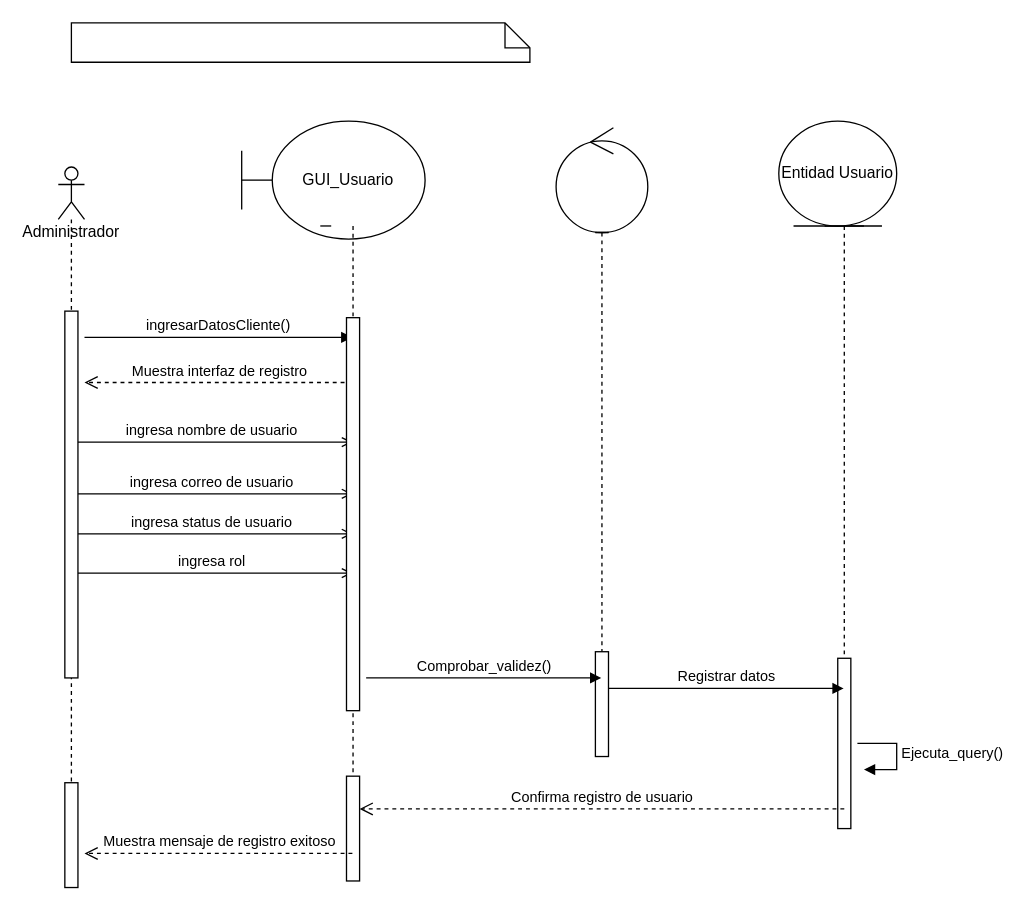
The diagram is 1026 pixels wide and 910 high, and some of its shapes have lost their labels. The centre of each missing label's shape, as x and y in pixels:
"Control Usuario" belongs at (601,179).
"Modulo Usuario: Registrar usuario" belongs at (300,42).
